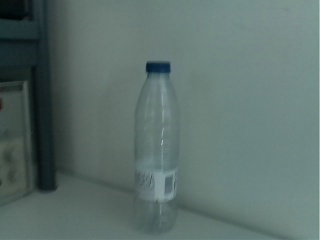botella plastico: (131, 60, 180, 231)
